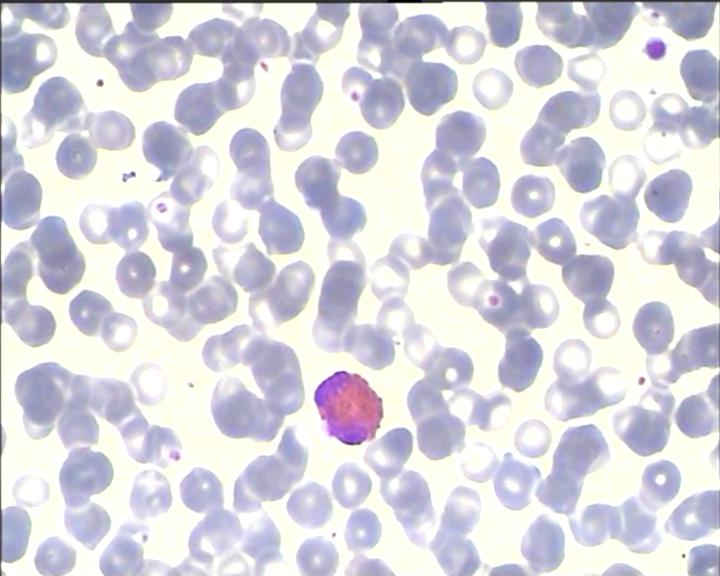eosi: (308, 365, 385, 450)
